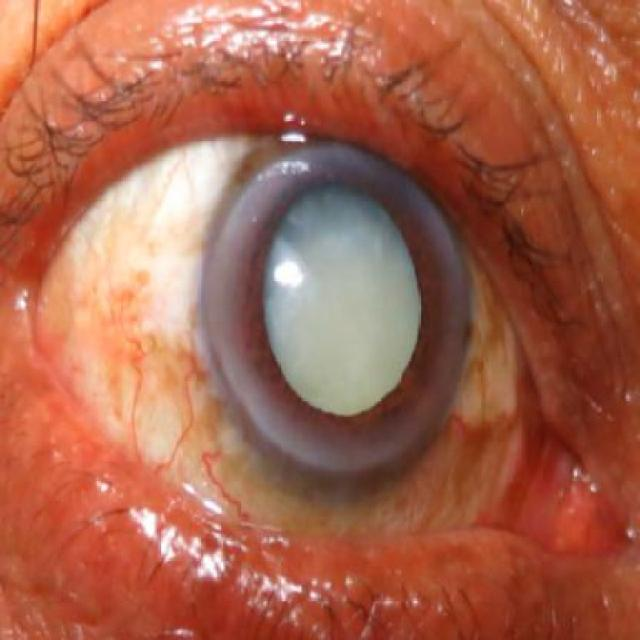Cataract: (202, 137, 472, 481)
